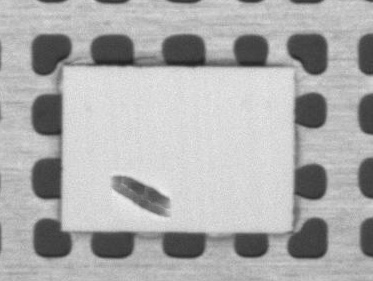DIE_INK: (107, 172, 172, 216)
